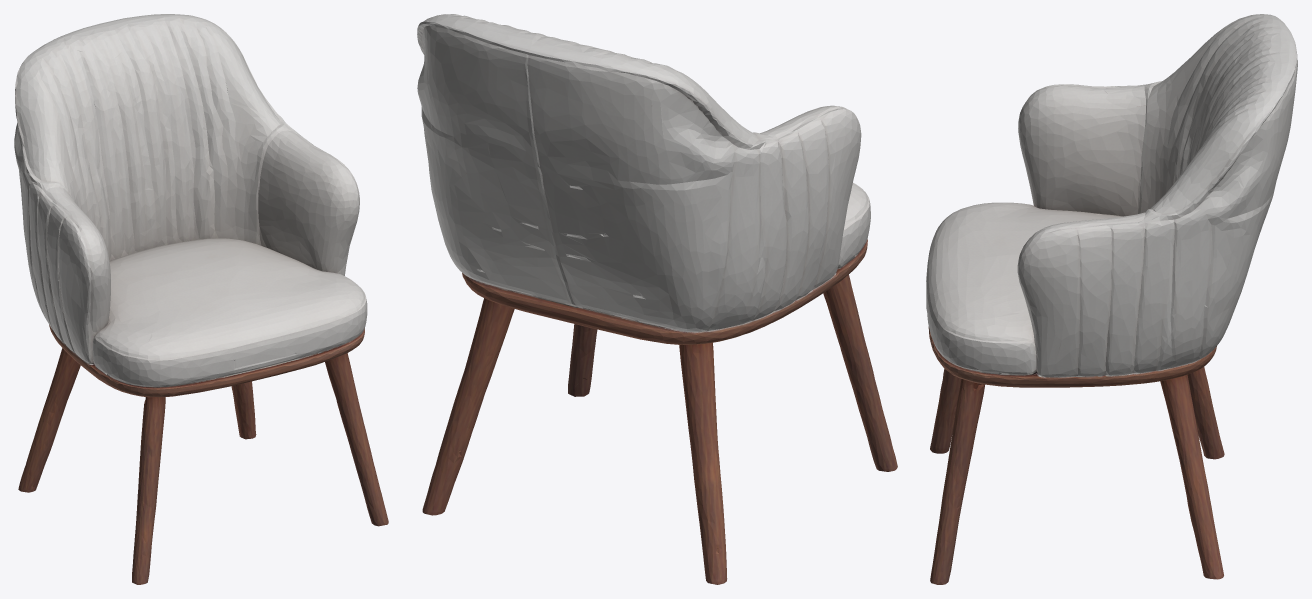
3 renders of one model, left to right at view 1: azimuth 30°, elevation 25°; view 2: azimuth 150°, elevation 25°; view 3: azimuth 270°, elevation 25°, orthographic. The views are drawn at different scales.
Parts seen in each view (by area): view 1: world; view 2: world; view 3: world.
Boxes of the visible parts, x1,y1,x2,y2 form: world: (14,14,388,584); world: (417,14,897,584); world: (926,14,1297,584).
Bounding box in the file's own units: 0.7141 × 1 × 0.7261.
1 material, 1 textured.
